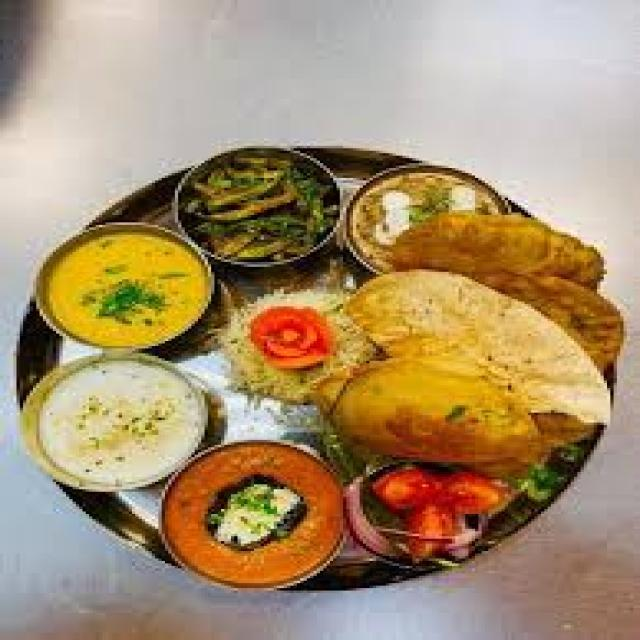dal: (33, 228, 209, 353)
papad: (320, 260, 616, 464)
pickle: (229, 300, 342, 373)
sweet: (149, 447, 360, 588), (228, 299, 340, 371)
